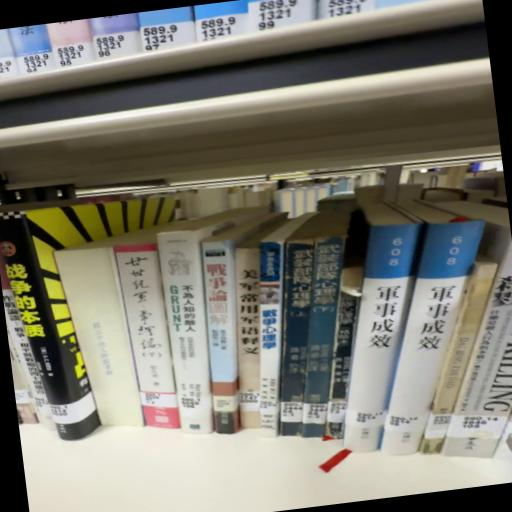backward: (57, 246, 146, 442)
book: (264, 211, 384, 454), (1, 212, 102, 450), (226, 219, 317, 444), (116, 242, 184, 439)
